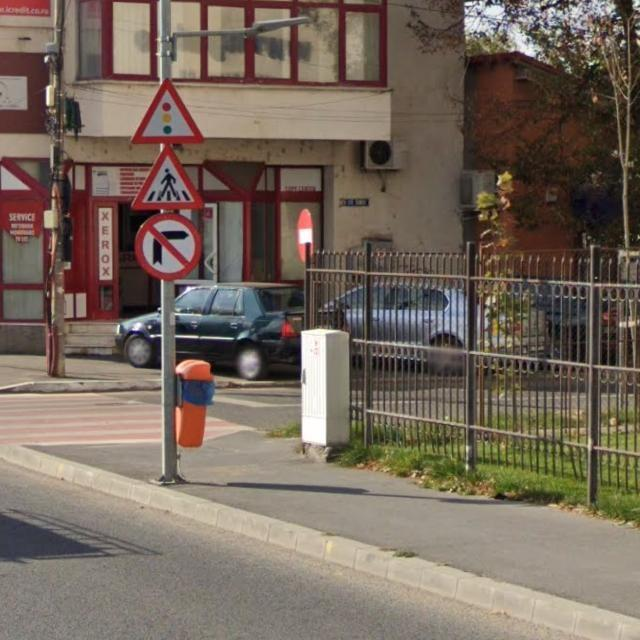warn_crosswalk: (131, 143, 205, 210)
